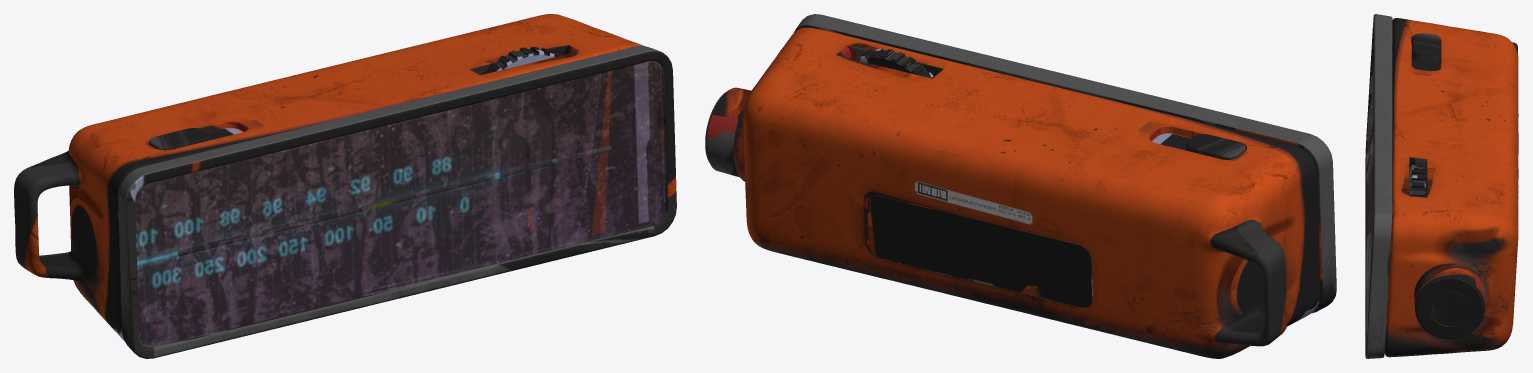
The picture shows the model from 3 angles, left to right: view 1: azimuth 30°, elevation 25°; view 2: azimuth 150°, elevation 25°; view 3: azimuth 270°, elevation 25°; orthographic projection. The views are drawn at different scales.
Parts seen in each view (by area): view 1: radio, Glass; view 2: radio; view 3: radio, Glass.
Part boxes in pixels (box(x1,y1,x2,y2)): radio: box(14, 14, 676, 358); Glass: box(135, 61, 666, 347); radio: box(705, 14, 1336, 358); radio: box(1365, 14, 1518, 358); Glass: box(1367, 53, 1373, 321).
Size of the model in its own units: 0.34 by 0.1011 by 0.0938.
2 materials, 2 textured.
